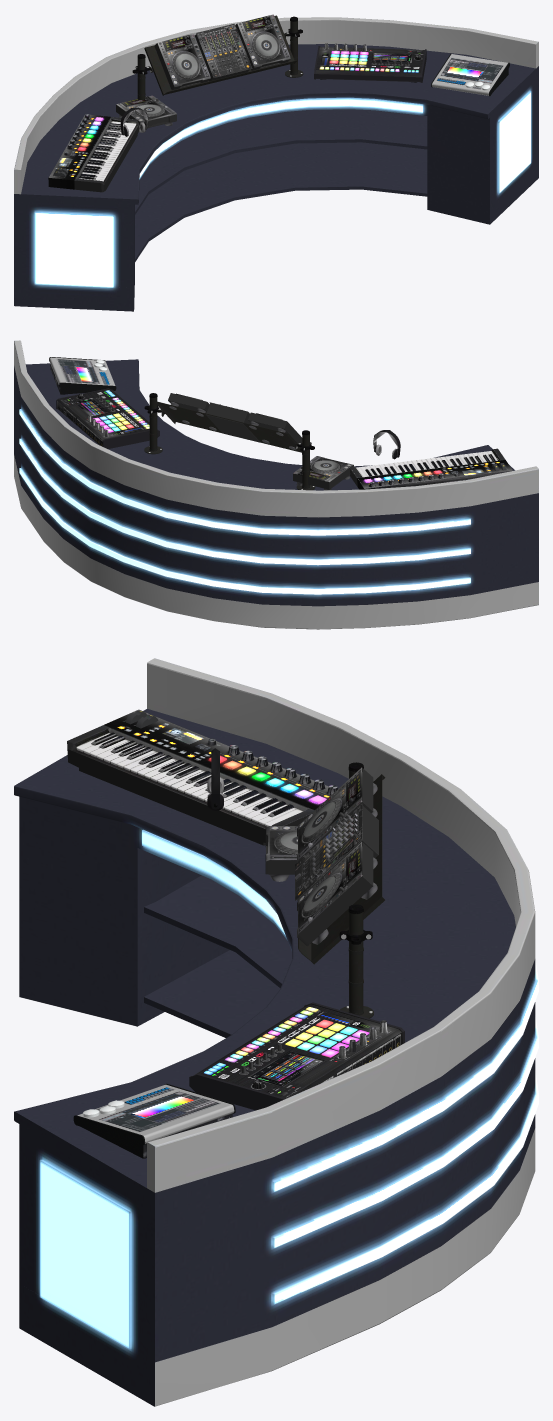
The model's file is Table.gltf.
3 renders of one model, top to bottom at view 1: azimuth 30°, elevation 25°; view 2: azimuth 150°, elevation 25°; view 3: azimuth 270°, elevation 25°, orthographic. The views are drawn at different scales.
Parts seen in each view (by area): view 1: DJTable01_10, DJMidiKeyboard01_9, DJControl02_7, DMXController01_8, DJControlHolder01_14, DJControl01_2_12, DJControl01_1_13, DJControl01_1 (1)_15, DJControl1_2, Headphones01_11; view 2: DJTable01_10, DJMidiKeyboard01_9, DJControl02_7, DJControlHolder01_14, DMXController01_8, DJControl01_2_12, DJControl1_2, DJControl01_1_13, DJControl01_1 (1)_15, Headphones01_11; view 3: DJTable01_10, DJMidiKeyboard01_9, DJControl02_7, DMXController01_8, DJControl01_1 (1)_15, DJControlHolder01_14, DJControl01_2_12, DJControl01_1_13, DJControl1_2.
Boxes of the visible parts, left/top/right/bottom form: DJTable01_10: left=14, top=17, right=538, bottom=311; DJMidiKeyboard01_9: left=48, top=114, right=139, bottom=192; DJControl02_7: left=314, top=43, right=426, bottom=82; DMXController01_8: left=431, top=53, right=509, bottom=96; DJControlHolder01_14: left=132, top=15, right=303, bottom=100; DJControl01_2_12: left=195, top=23, right=252, bottom=81; DJControl01_1_13: left=154, top=34, right=210, bottom=90; DJControl01_1 (1)_15: left=235, top=14, right=290, bottom=70; DJControl1_2: left=116, top=95, right=176, bottom=132; Headphones01_11: left=120, top=107, right=147, bottom=136; DJTable01_10: left=14, top=340, right=538, bottom=629; DJMidiKeyboard01_9: left=349, top=448, right=512, bottom=489; DJControl02_7: left=56, top=388, right=159, bottom=448; DJControlHolder01_14: left=144, top=393, right=315, bottom=490; DMXController01_8: left=49, top=357, right=116, bottom=394; DJControl01_2_12: left=205, top=402, right=260, bottom=442; DJControl1_2: left=293, top=456, right=353, bottom=490; DJControl01_1_13: left=248, top=412, right=302, bottom=450; DJControl01_1 (1)_15: left=168, top=393, right=216, bottom=430; Headphones01_11: left=373, top=430, right=400, bottom=459; DJTable01_10: left=14, top=658, right=538, bottom=1406; DJMidiKeyboard01_9: left=67, top=709, right=337, bottom=845; DJControl02_7: left=189, top=1002, right=404, bottom=1110; DMXController01_8: left=73, top=1083, right=235, bottom=1158; DJControl01_1 (1)_15: left=297, top=842, right=377, bottom=945; DJControlHolder01_14: left=298, top=762, right=385, bottom=1018; DJControl01_2_12: left=294, top=803, right=378, bottom=900; DJControl01_1_13: left=297, top=767, right=377, bottom=862; DJControl1_2: left=265, top=826, right=297, bottom=881.
Bounding box in the file's own units: 4.4 × 1.41 × 2.
